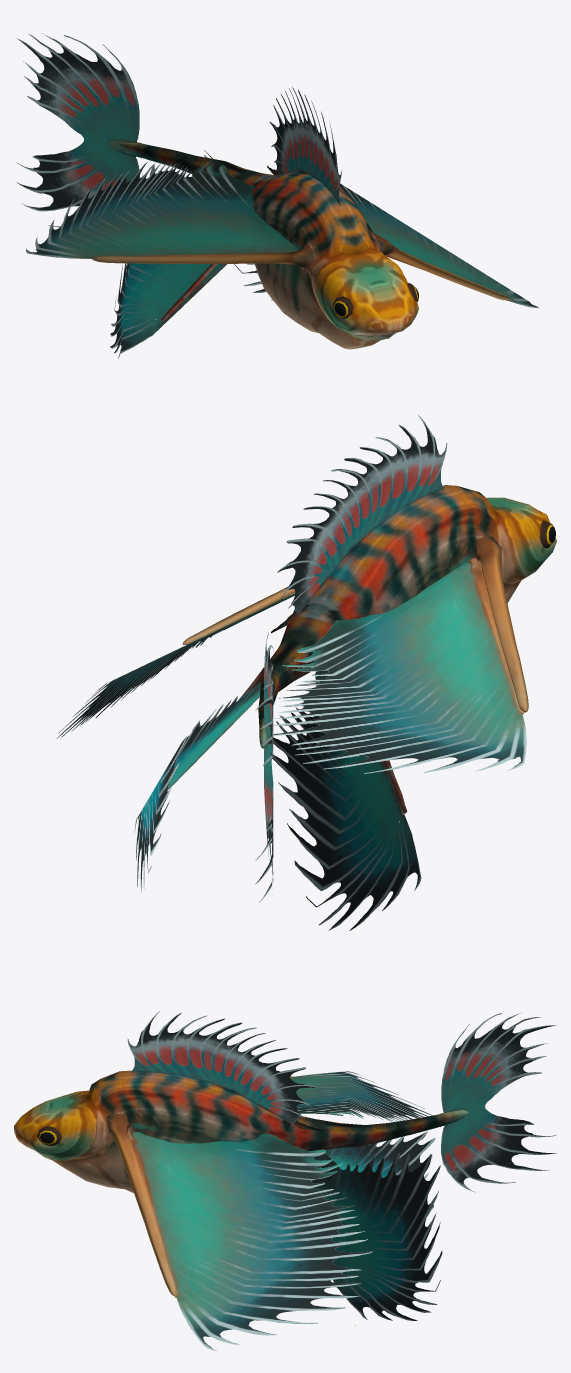
The model's file is fish_000015.obj.
3 renders of one model, top to bottom at view 1: azimuth 30°, elevation 25°; view 2: azimuth 150°, elevation 25°; view 3: azimuth 270°, elevation 25°, orthographic. The views are drawn at different scales.
Visible parts, largest first — view 1: flyingFish_low_StingrayPBS1_0; view 2: flyingFish_low_StingrayPBS1_0; view 3: flyingFish_low_StingrayPBS1_0.
Boxes of the visible parts, left/top/right/bottom form: flyingFish_low_StingrayPBS1_0: left=16, top=33, right=538, bottom=358; flyingFish_low_StingrayPBS1_0: left=56, top=415, right=556, bottom=930; flyingFish_low_StingrayPBS1_0: left=14, top=1011, right=556, bottom=1351.
Size of the model in its own units: 16.92 by 12.02 by 19.72.
Materials: 1 (1 with a texture image).
